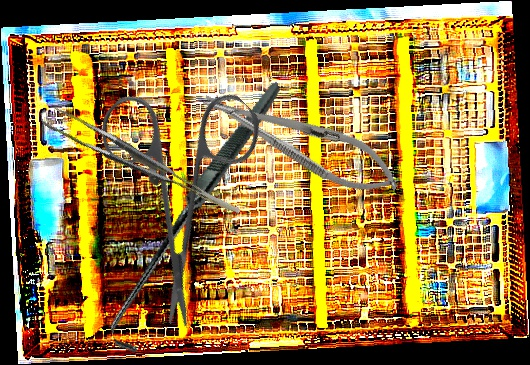Hook Surgical: (57, 80, 339, 358)
Iris Scissors: (33, 38, 328, 333)
Needle Holder: (194, 74, 409, 208)
Tissue Forceps: (41, 87, 242, 246)
